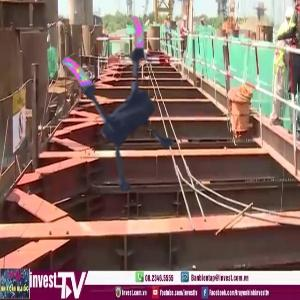drone: (28, 16, 207, 195)
